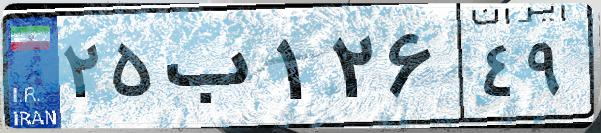1: (270, 28, 330, 110)
2: (330, 28, 385, 110), (57, 26, 110, 100)
4: (475, 38, 525, 113)
5: (110, 28, 158, 98)
6: (385, 28, 445, 110)
9: (525, 38, 570, 115)
ب: (158, 20, 270, 120)
